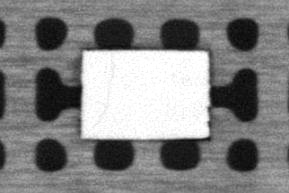DIE_CRACK: (91, 56, 113, 125)
